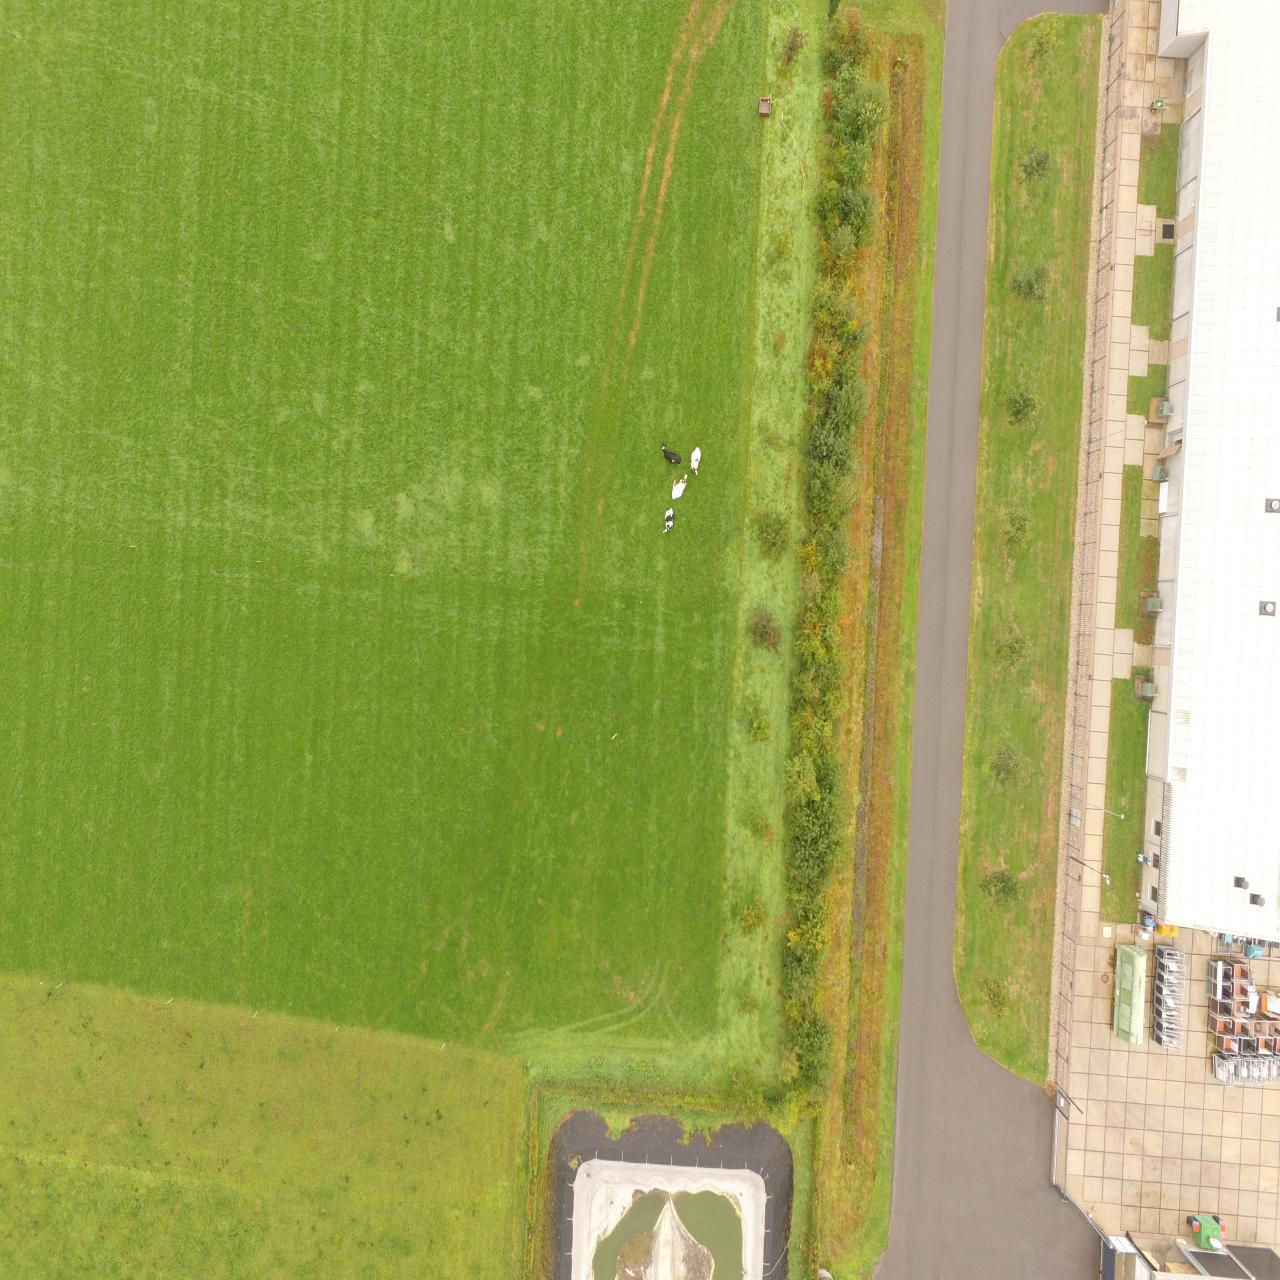cow: (661, 443, 682, 467), (672, 474, 688, 499), (662, 506, 674, 535), (690, 447, 701, 476)
